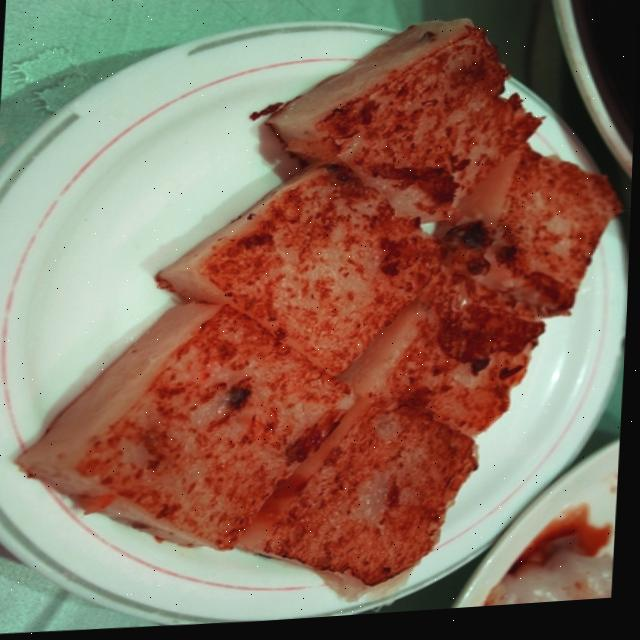蛋糕甜品: (0, 6, 629, 640)
